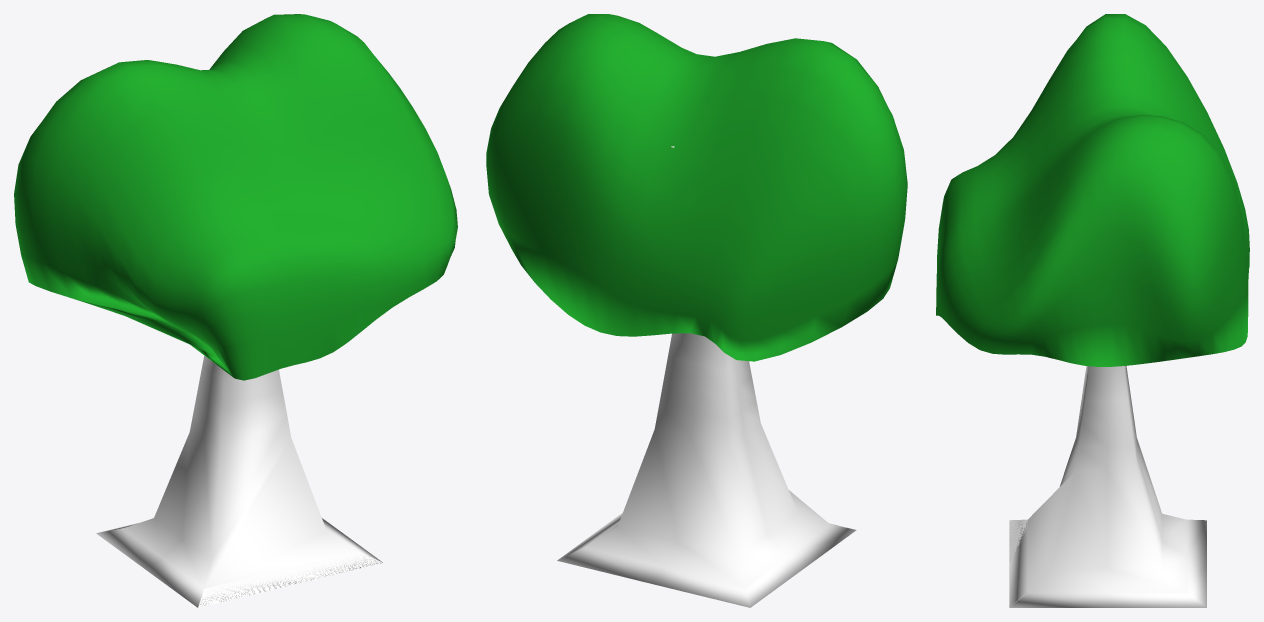
The model's file is tree_leaves_01.glb.
3 views of the same model, side by side, from view 1: azimuth 30°, elevation 25°; view 2: azimuth 150°, elevation 25°; view 3: azimuth 270°, elevation 25° (orthographic). The views are drawn at different scales.
Parts seen in each view (by area): view 1: tree_leave; view 2: tree_leave; view 3: tree_leave.
Part boxes in pixels (x1=…): tree_leave: x1=14, y1=14, x2=457, y2=607; tree_leave: x1=486, y1=14, x2=907, y2=607; tree_leave: x1=936, y1=14, x2=1249, y2=607.
Size of the model in its own units: 6.96 by 9.06 by 5.22.
